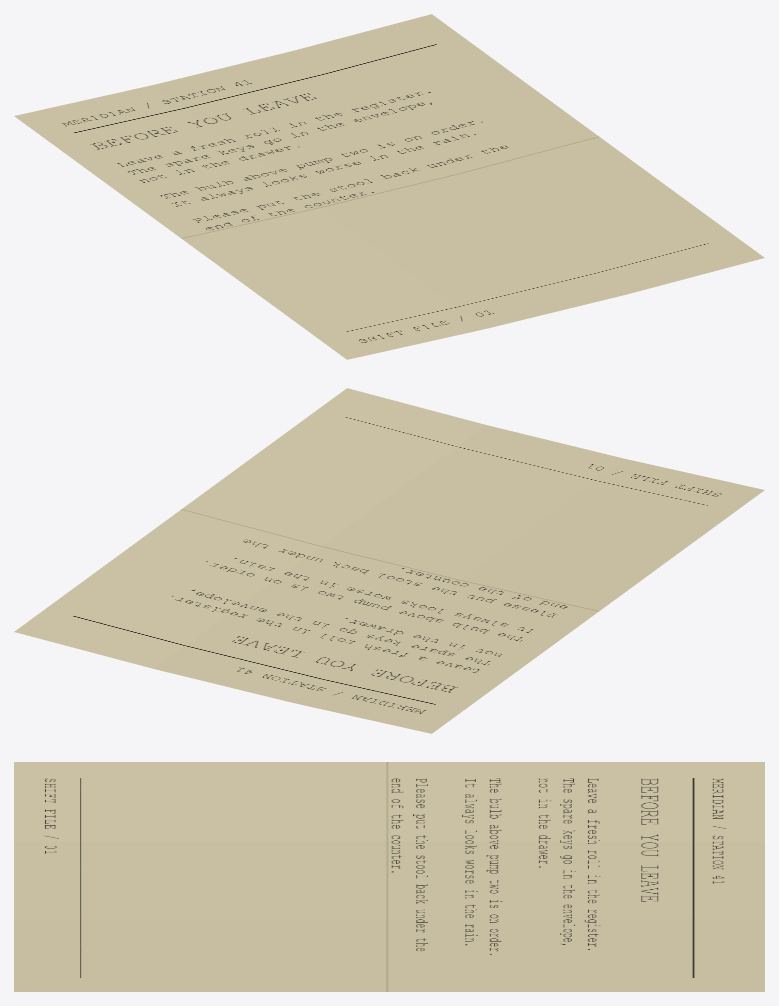
Rendered from letter_closing.glb.
The picture shows the model from 3 angles, top to bottom: view 1: azimuth 30°, elevation 25°; view 2: azimuth 150°, elevation 25°; view 3: azimuth 270°, elevation 25°; orthographic projection. The views are drawn at different scales.
Visible parts, largest first — view 1: letter_closing; view 2: letter_closing; view 3: letter_closing.
Part boxes in pixels (x1=…): letter_closing: x1=14, y1=14, x2=764, y2=359; letter_closing: x1=14, y1=388, x2=764, y2=733; letter_closing: x1=14, y1=762, x2=764, y2=991.
Size of the model in its own units: 0.21 by 0.0014 by 0.29.
1 material, 1 textured.
